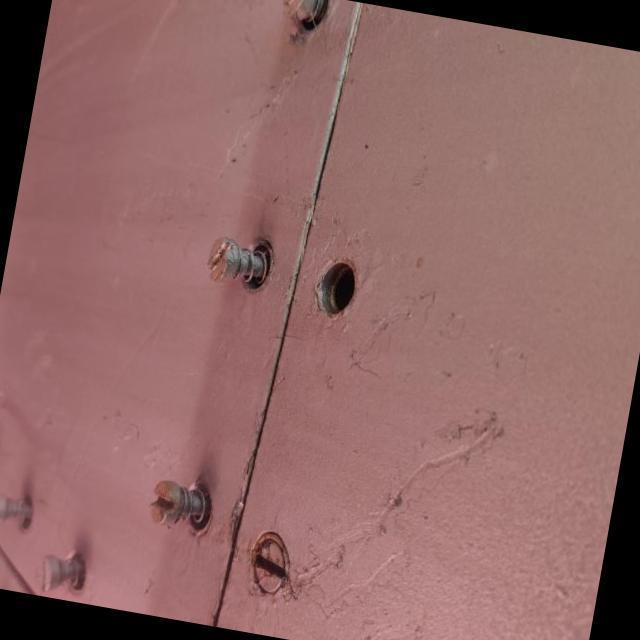Fastener Damage: (276, 235, 390, 345)
